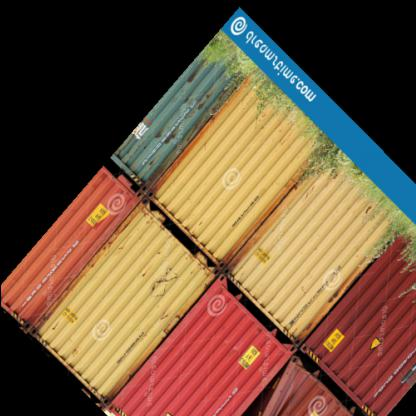Damage: (235, 363, 306, 415)
